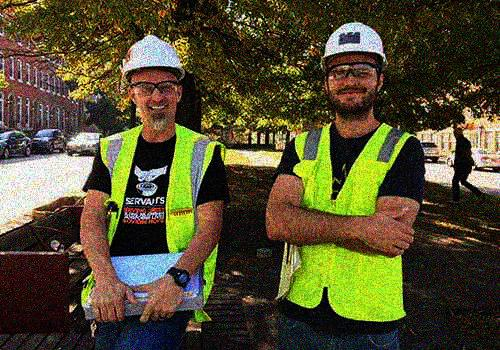helmet: (120, 34, 187, 127), (320, 22, 388, 112)
